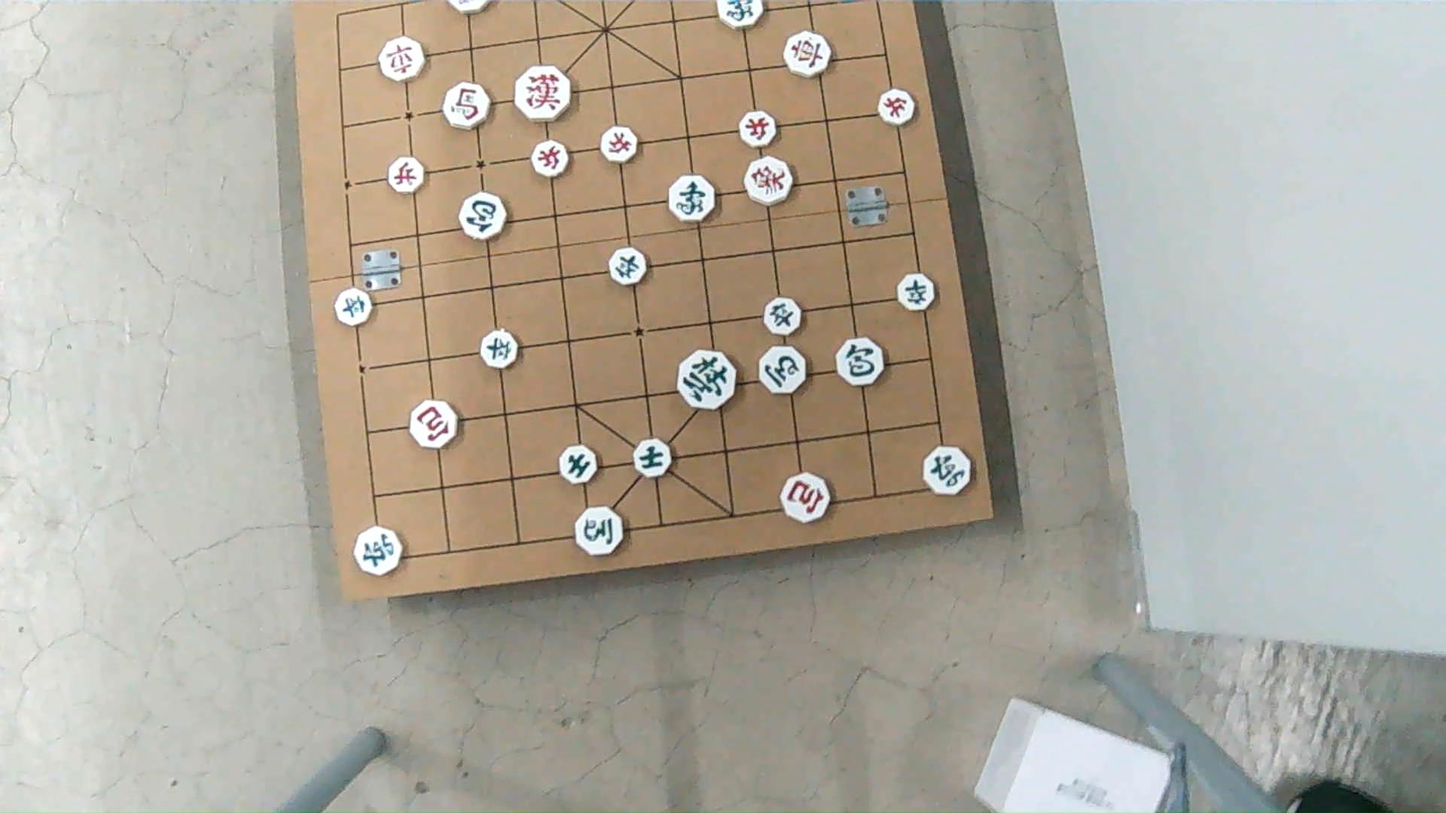cha_green: (923, 446, 972, 494), (357, 528, 404, 577)
cha_red: (783, 30, 831, 76), (380, 39, 426, 84)
jol_green: (335, 287, 373, 326), (764, 298, 803, 336), (895, 274, 933, 312), (480, 331, 517, 370), (610, 248, 648, 285)
jol_red: (741, 111, 779, 148), (601, 126, 638, 163), (532, 142, 569, 178), (389, 157, 425, 193), (877, 87, 914, 122)
ma_green: (574, 508, 623, 556), (760, 348, 807, 395)
ma_red: (444, 82, 491, 129)
po_green: (837, 337, 883, 385), (461, 193, 507, 239)
po_red: (780, 473, 828, 522), (407, 402, 456, 449)
sa_green: (560, 444, 599, 483), (633, 439, 671, 478)
sang_green: (670, 175, 717, 221)
sang_red: (746, 157, 792, 205)
wang_green: (679, 349, 737, 409)
wang_red: (517, 66, 573, 123)
